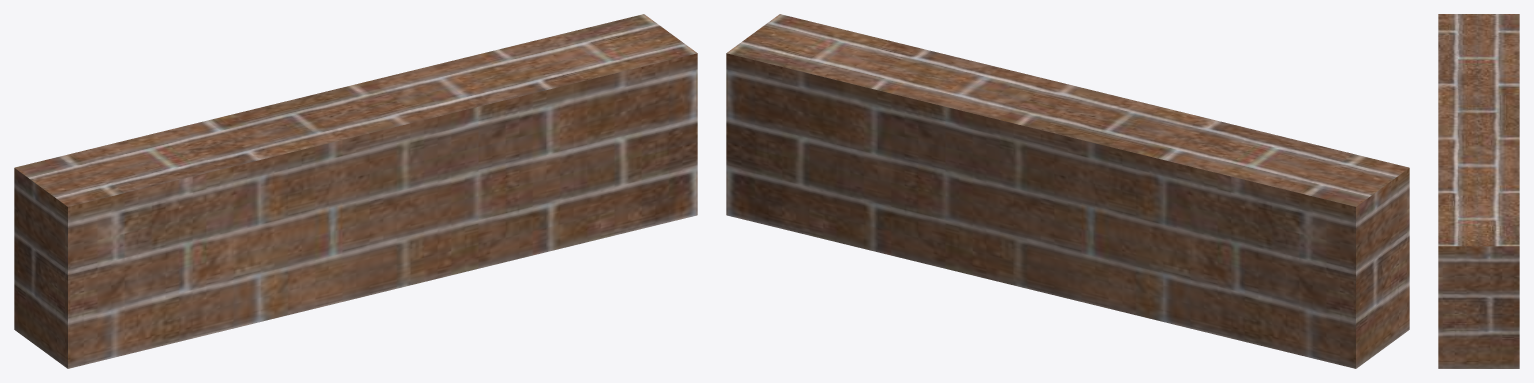
File: Joglo_part_279.fbx
3 renders of one model, left to right at view 1: azimuth 30°, elevation 25°; view 2: azimuth 150°, elevation 25°; view 3: azimuth 270°, elevation 25°, orthographic. The views are drawn at different scales.
Parts seen in each view (by area): view 1: Mesh344_Brick___Brown_0.001; view 2: Mesh344_Brick___Brown_0.001; view 3: Mesh344_Brick___Brown_0.001.
Part boxes in pixels (box(x1,y1,x2,y2)): Mesh344_Brick___Brown_0.001: box(14, 14, 697, 368); Mesh344_Brick___Brown_0.001: box(726, 14, 1409, 368); Mesh344_Brick___Brown_0.001: box(1438, 14, 1519, 368).
Bounding box in the file's own units: 40.04 × 9.84 × 5.91.
